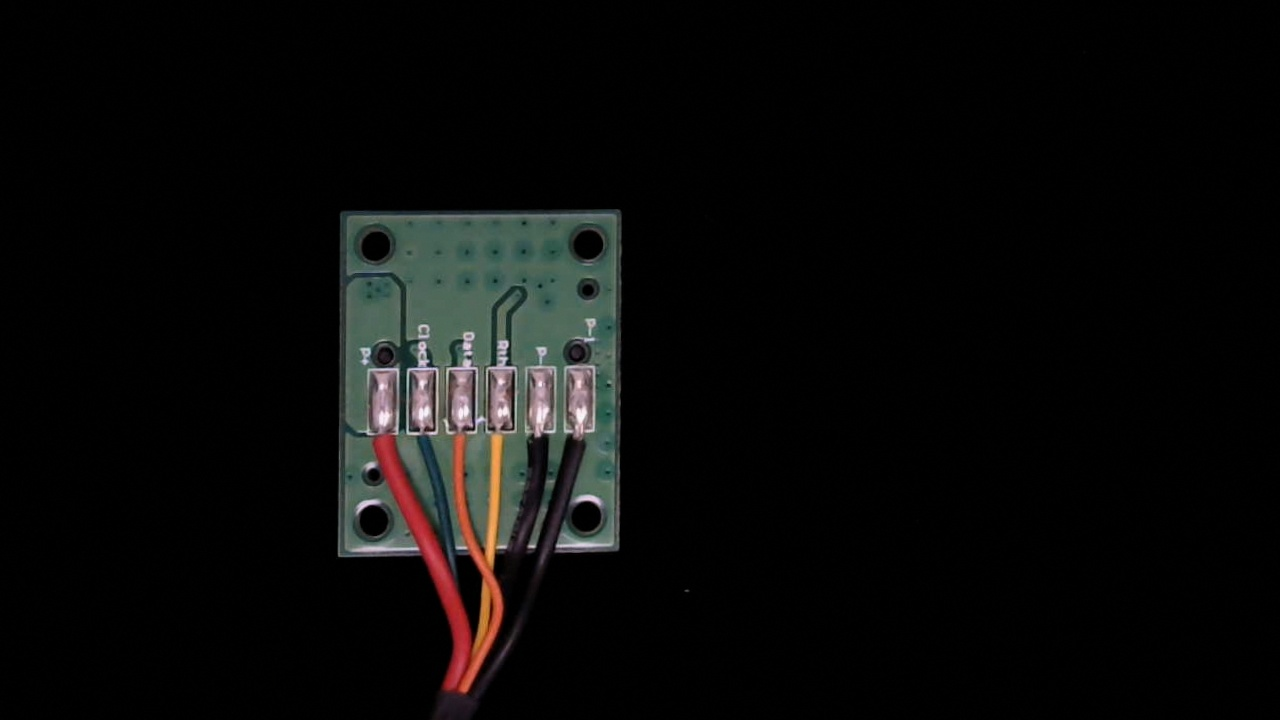Black: (521, 410, 558, 486)
Black1: (561, 411, 595, 481)
Green: (405, 406, 441, 479)
Orange: (445, 407, 478, 483)
Red: (365, 410, 401, 483)
Yellow: (486, 409, 521, 486)
